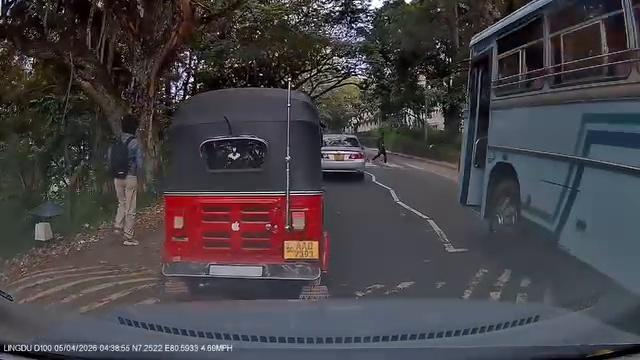number plate: (282, 237, 323, 268)
